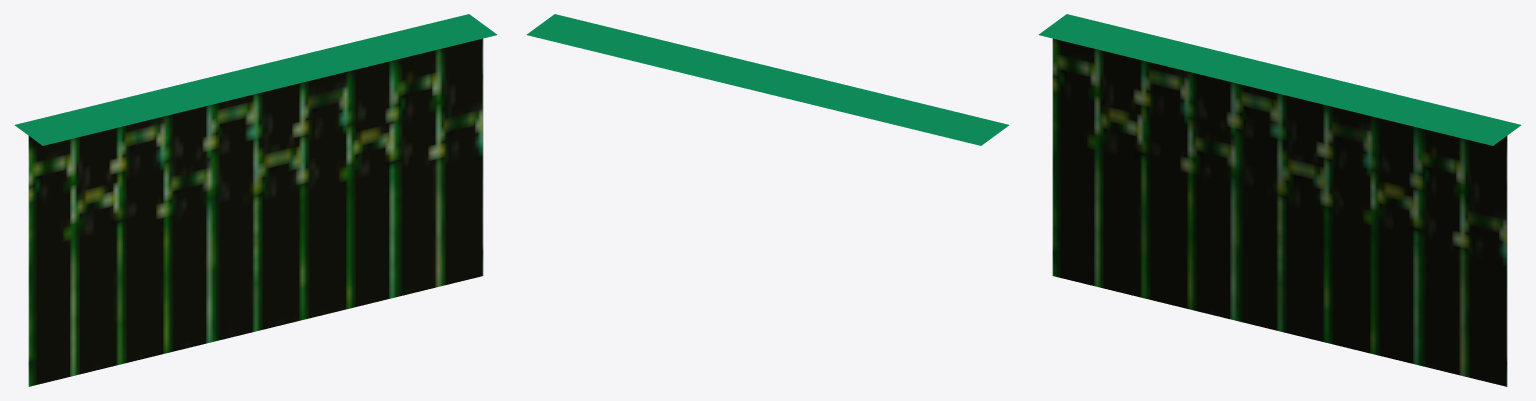
File: Geländer1_Hoch [GrünesMetallHochDicht]_302.glb
3 renders of one model, left to right at view 1: azimuth 30°, elevation 25°; view 2: azimuth 150°, elevation 25°; view 3: azimuth 330°, elevation 25°, orthographic.
Parts seen in each view (by area): view 1: pPlaneShape229, pPlaneShape230; view 2: pPlaneShape230; view 3: pPlaneShape229, pPlaneShape230.
Boxes of the visible parts, box(x1,y1,x2,y2) form: pPlaneShape229: box(28, 38, 483, 386); pPlaneShape230: box(14, 14, 497, 145); pPlaneShape230: box(526, 14, 1009, 145); pPlaneShape229: box(1052, 38, 1507, 386); pPlaneShape230: box(1038, 14, 1521, 145).
Size of the model in its own units: 0.2229 by 0.1177 by 0.0243.
Materials: 2 (1 with a texture image).
